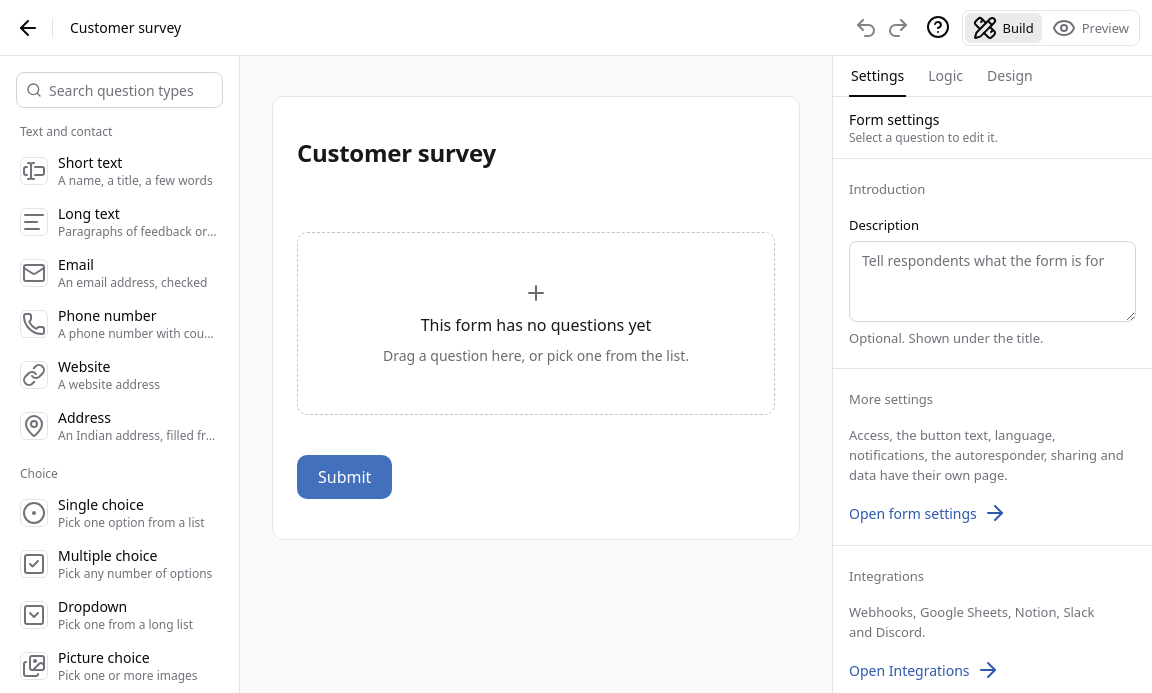
it: EditorLayout › finds question types by name or description
In the search field labelled "Search question types": (120, 90) [16,72,223,108], type "pin code"
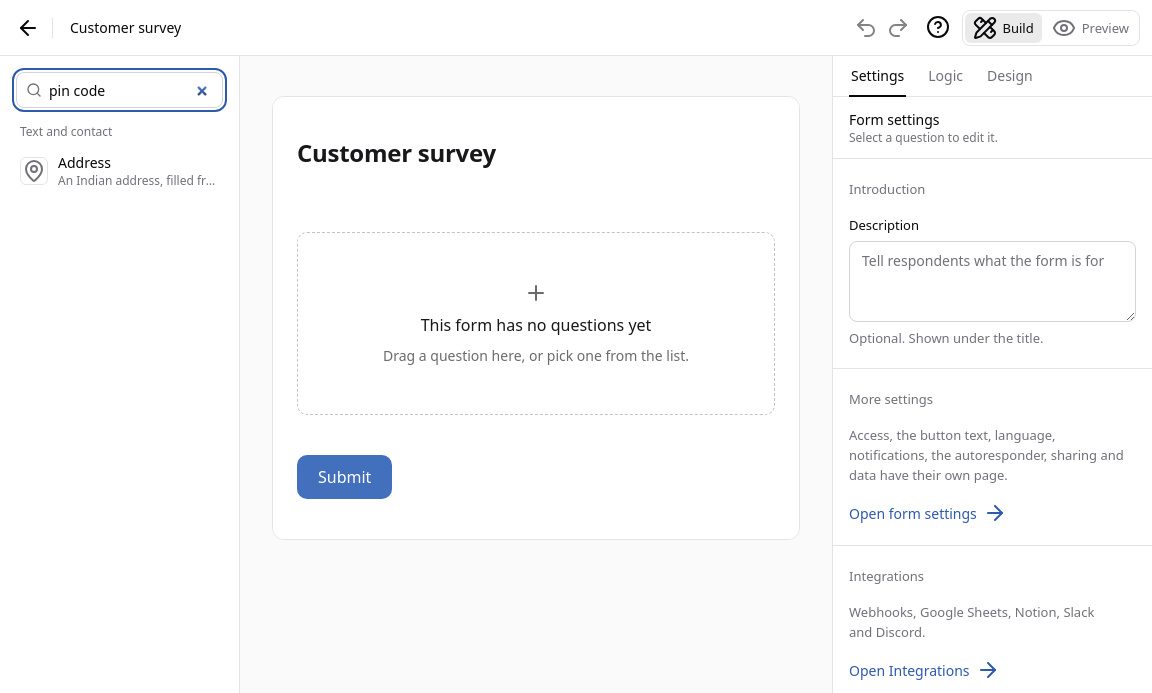
Expected: the heading "Text and contact" is shown, [20,123,112,140]
Replace the text in the search field named "Search question types" with "zzz": (120, 90) [16,72,223,108]
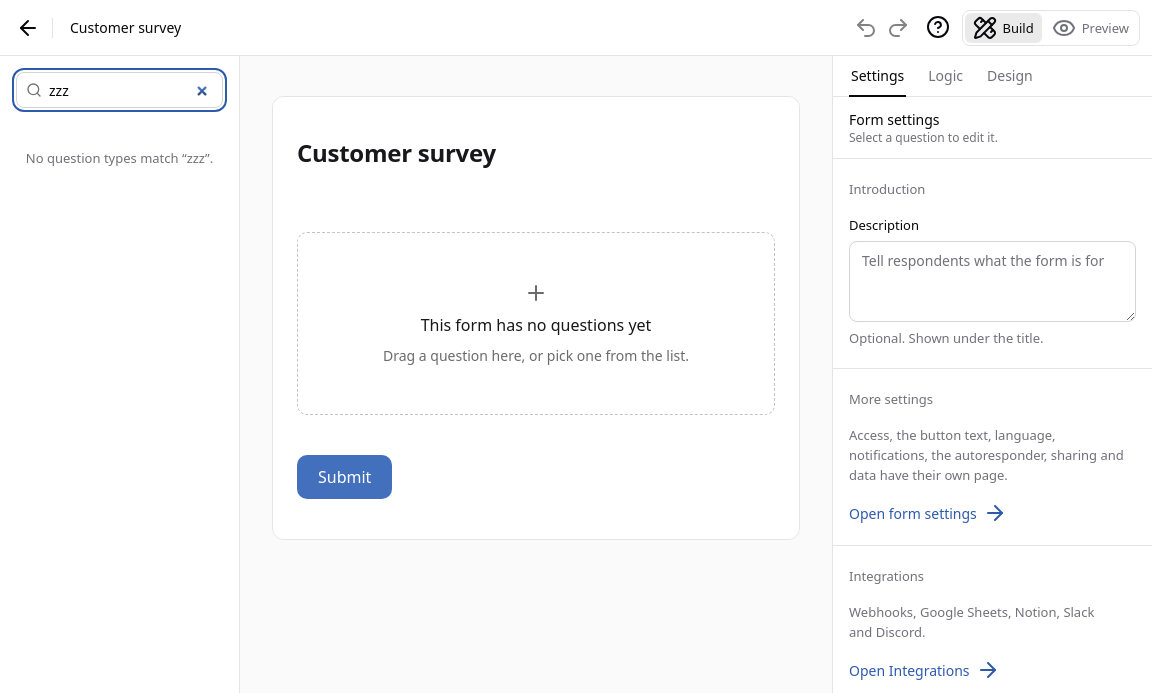
Now no the button "Short text A name, a title, a few words" are shown
Now the message shows "No question types match", box [26,149,187,167]
